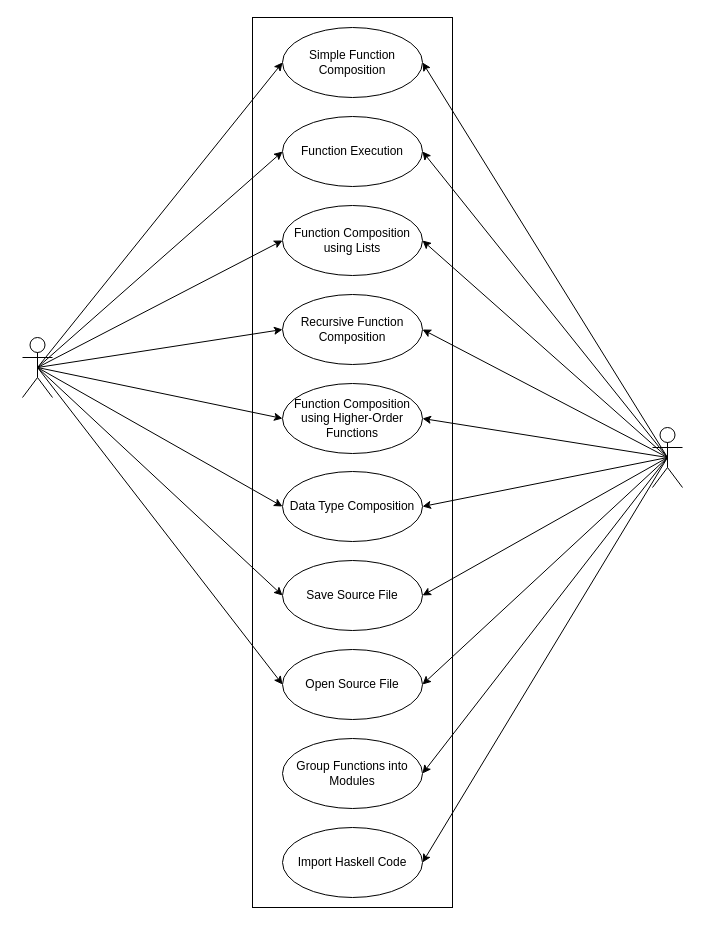
The diagram is 702 pixels wide and 925 high, and some of its shapes have lost their labels. Here are the shapes that lost their labels. From the top down, the centre of each, then its label:
At (x=37, y=367): "Student User".
At (x=667, y=457): "Expert User".
